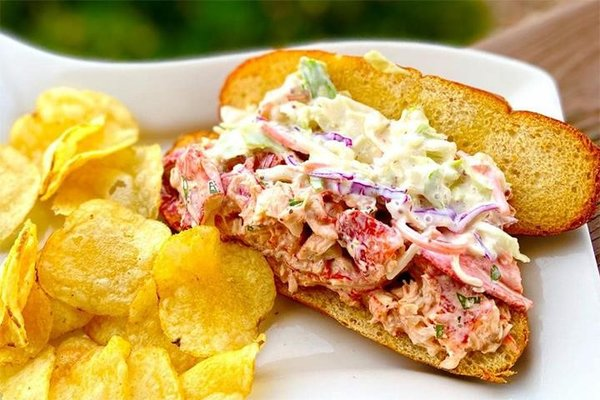soup: (159, 49, 594, 380)
sushi: (1, 0, 460, 138)
